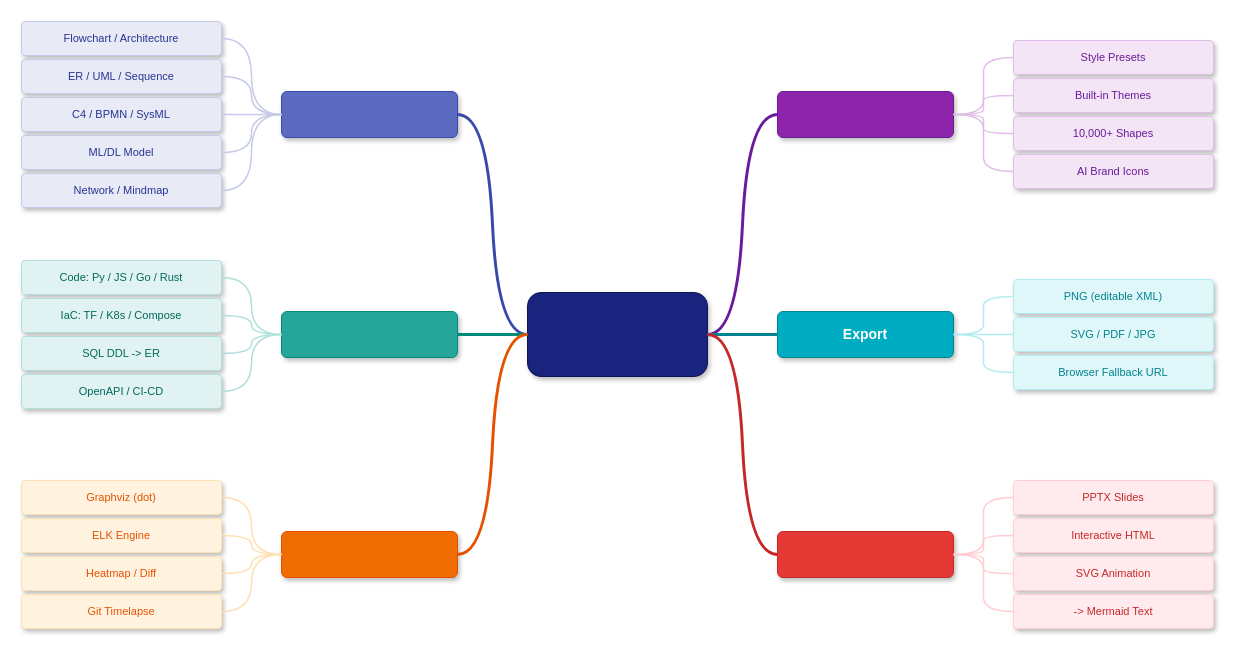
This 1237x653 diagram has some shape labels left out. Each missing label, with the centre of its shape:
"Auto Layout" goes at (370,555).
"Diagram Types" goes at (370,115).
"drawio-skill" goes at (618,336).
"Import Sources" goes at (370,335).
"Repurpose" goes at (866,555).
"Styling" goes at (866,115).
